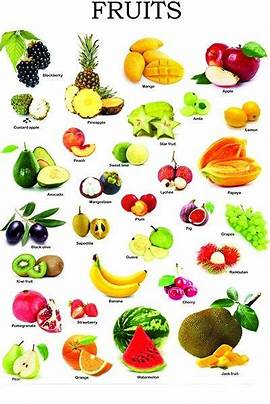inorganic: (176, 289, 270, 379), (112, 302, 179, 377), (196, 132, 267, 190), (67, 38, 121, 114), (124, 28, 187, 87), (84, 251, 155, 303), (203, 35, 265, 90), (7, 285, 72, 335), (1, 32, 60, 85), (60, 336, 121, 387), (4, 337, 57, 391), (5, 206, 67, 252), (9, 145, 69, 192), (126, 96, 187, 142), (226, 197, 270, 251), (124, 219, 179, 261), (215, 98, 269, 135), (68, 206, 112, 248), (151, 157, 197, 197), (199, 236, 246, 275), (65, 291, 112, 326), (73, 167, 122, 200), (8, 253, 73, 277), (175, 198, 221, 231), (155, 275, 207, 303), (60, 129, 104, 162), (116, 193, 165, 220), (176, 90, 216, 122), (1, 98, 51, 123), (111, 140, 157, 161)
